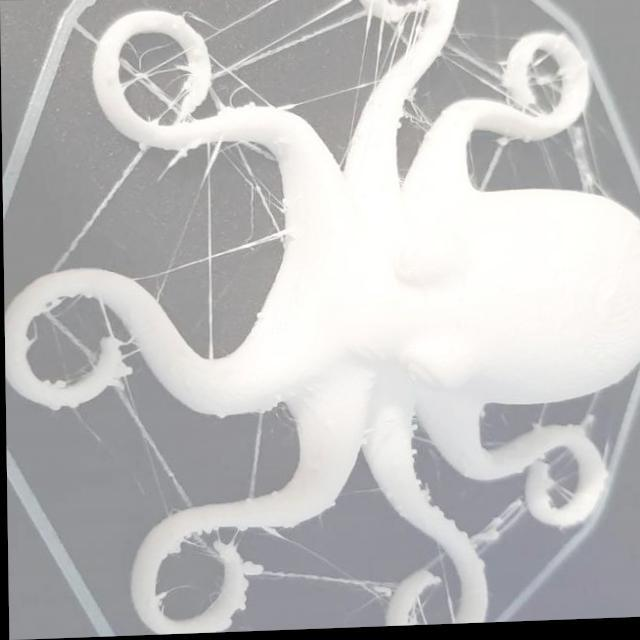stringing: (219, 0, 368, 86), (240, 562, 395, 607), (230, 152, 286, 251), (368, 16, 422, 64), (478, 508, 518, 551), (126, 61, 176, 84), (146, 80, 176, 110)
